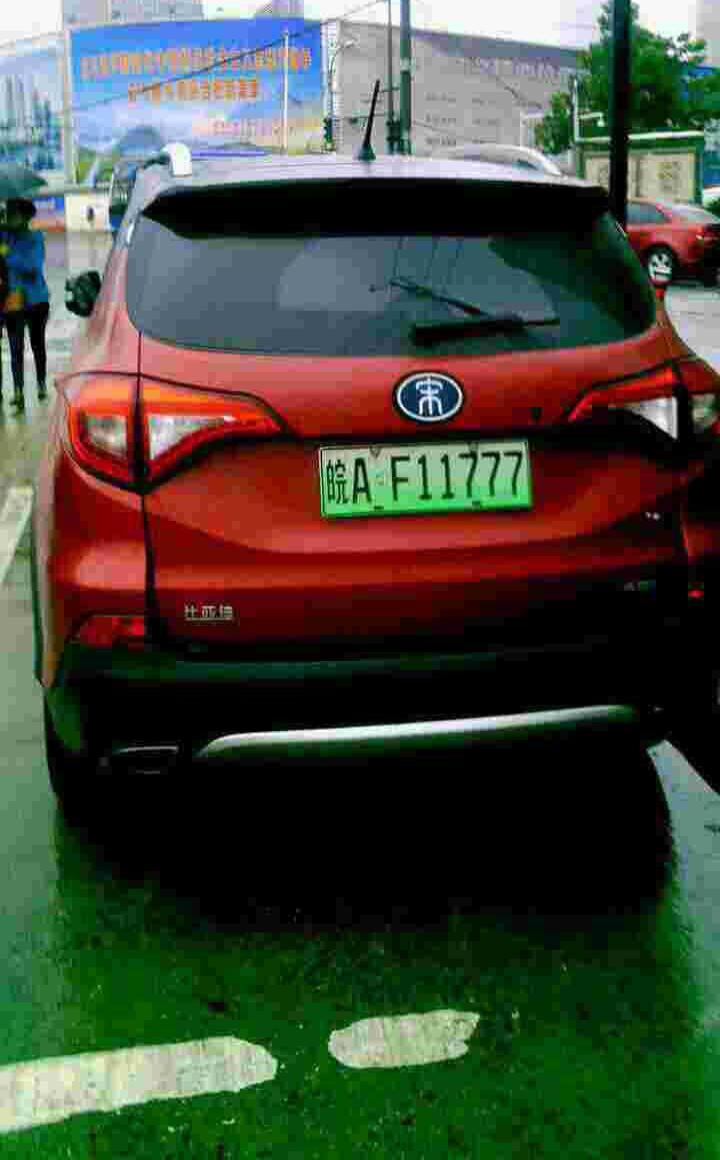car: (299, 436, 546, 519)
